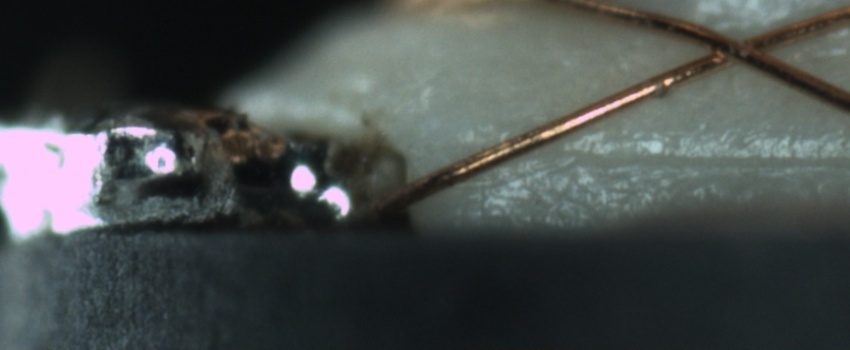CL: (692, 21, 782, 74)
DL: (479, 125, 850, 189)
